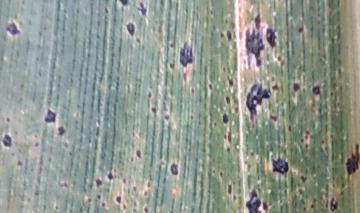tarspot: (243, 79, 271, 119), (241, 26, 265, 67), (344, 140, 360, 179), (178, 39, 197, 69), (242, 186, 262, 213), (269, 153, 290, 175), (3, 18, 22, 40), (266, 23, 278, 51), (42, 106, 58, 124), (308, 82, 324, 98), (1, 132, 14, 151), (326, 196, 340, 213), (289, 78, 302, 95), (135, 1, 148, 17), (168, 160, 180, 177), (126, 20, 136, 39), (253, 9, 262, 30), (220, 111, 230, 127), (55, 125, 68, 137), (225, 181, 234, 198), (270, 79, 280, 94), (116, 1, 136, 8), (225, 26, 233, 43), (205, 80, 215, 93), (226, 128, 234, 144), (223, 93, 232, 107), (296, 23, 305, 37), (147, 105, 158, 116), (134, 148, 144, 160), (298, 172, 308, 184), (166, 41, 177, 51), (93, 176, 102, 188), (114, 193, 123, 205), (145, 89, 154, 101), (106, 170, 114, 183), (261, 200, 269, 213), (168, 60, 176, 73), (295, 187, 305, 196), (225, 145, 233, 155), (227, 77, 234, 87), (271, 113, 277, 123)
